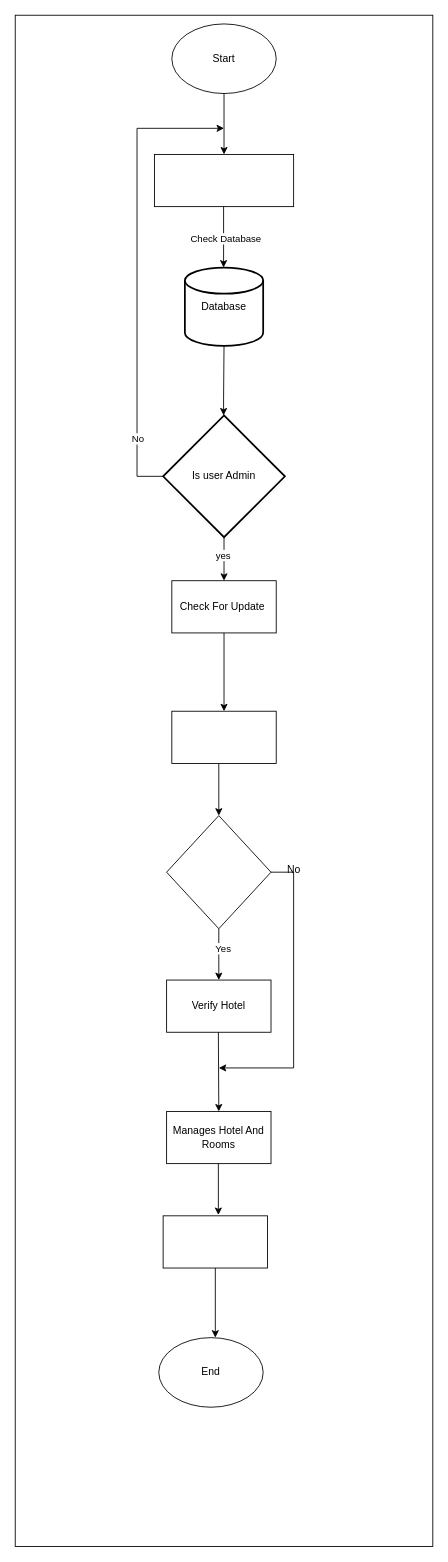
The diagram is 448 pixels wide and 1562 high, and some of its shapes have lost their labels. The shapes that lost their labels are listed below. From the top down, each one's centre as x and y in pixels, then its label:
(x=224, y=180): Login
(x=223, y=736): Add Hotel user
(x=218, y=872): Any Verification request
(x=215, y=1241): Checks reports
